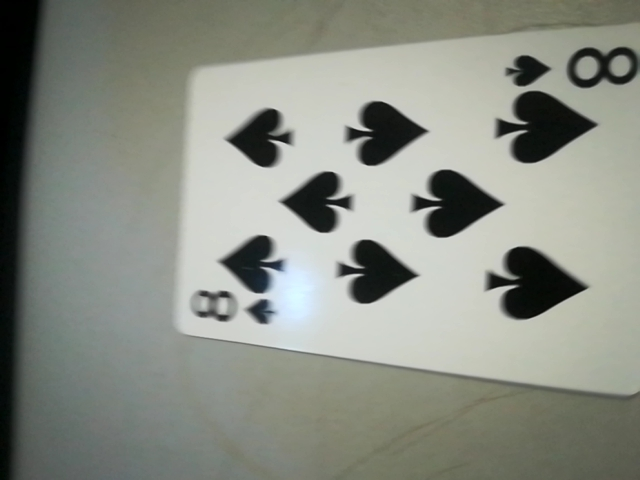ht 8: (507, 41, 640, 102)
